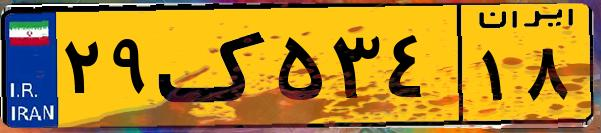1: (475, 38, 525, 113)
2: (57, 26, 110, 100)
3: (330, 28, 385, 110)
4: (385, 28, 445, 110)
5: (270, 28, 330, 110)
8: (525, 38, 570, 115)
9: (110, 28, 158, 98)
ک: (158, 12, 270, 120)
